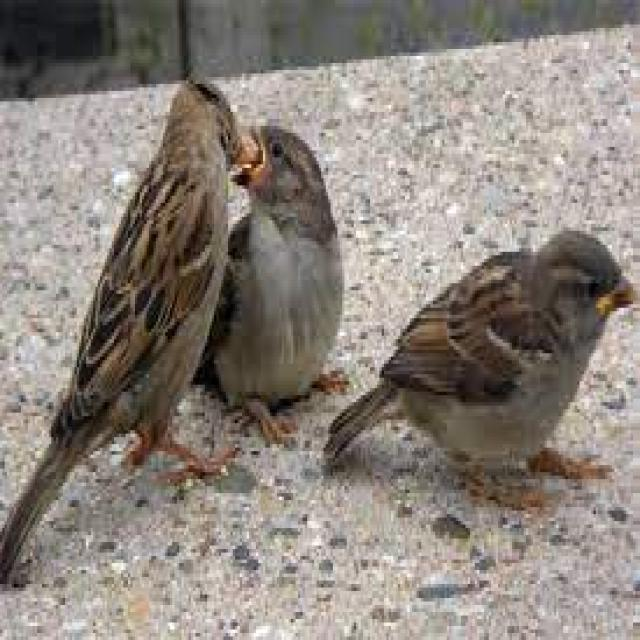bird: (315, 231, 635, 504)
